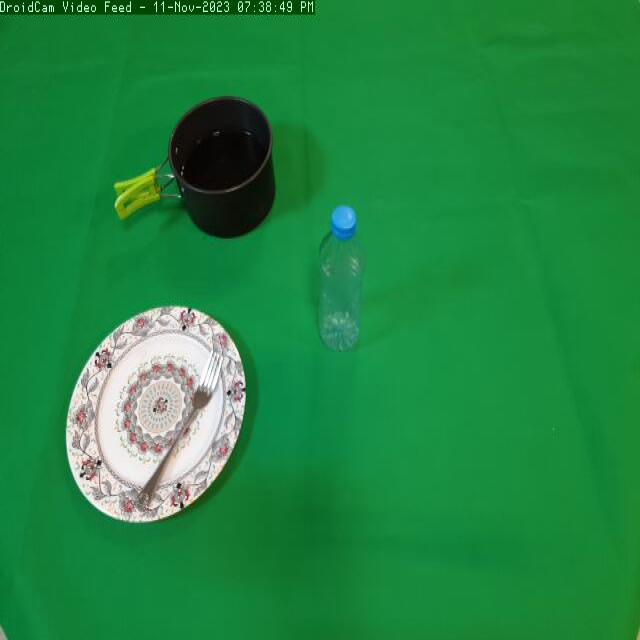bottle: (311, 196, 375, 377)
fork: (137, 348, 225, 508)
plate: (63, 301, 255, 538)
pot: (116, 87, 286, 243)
